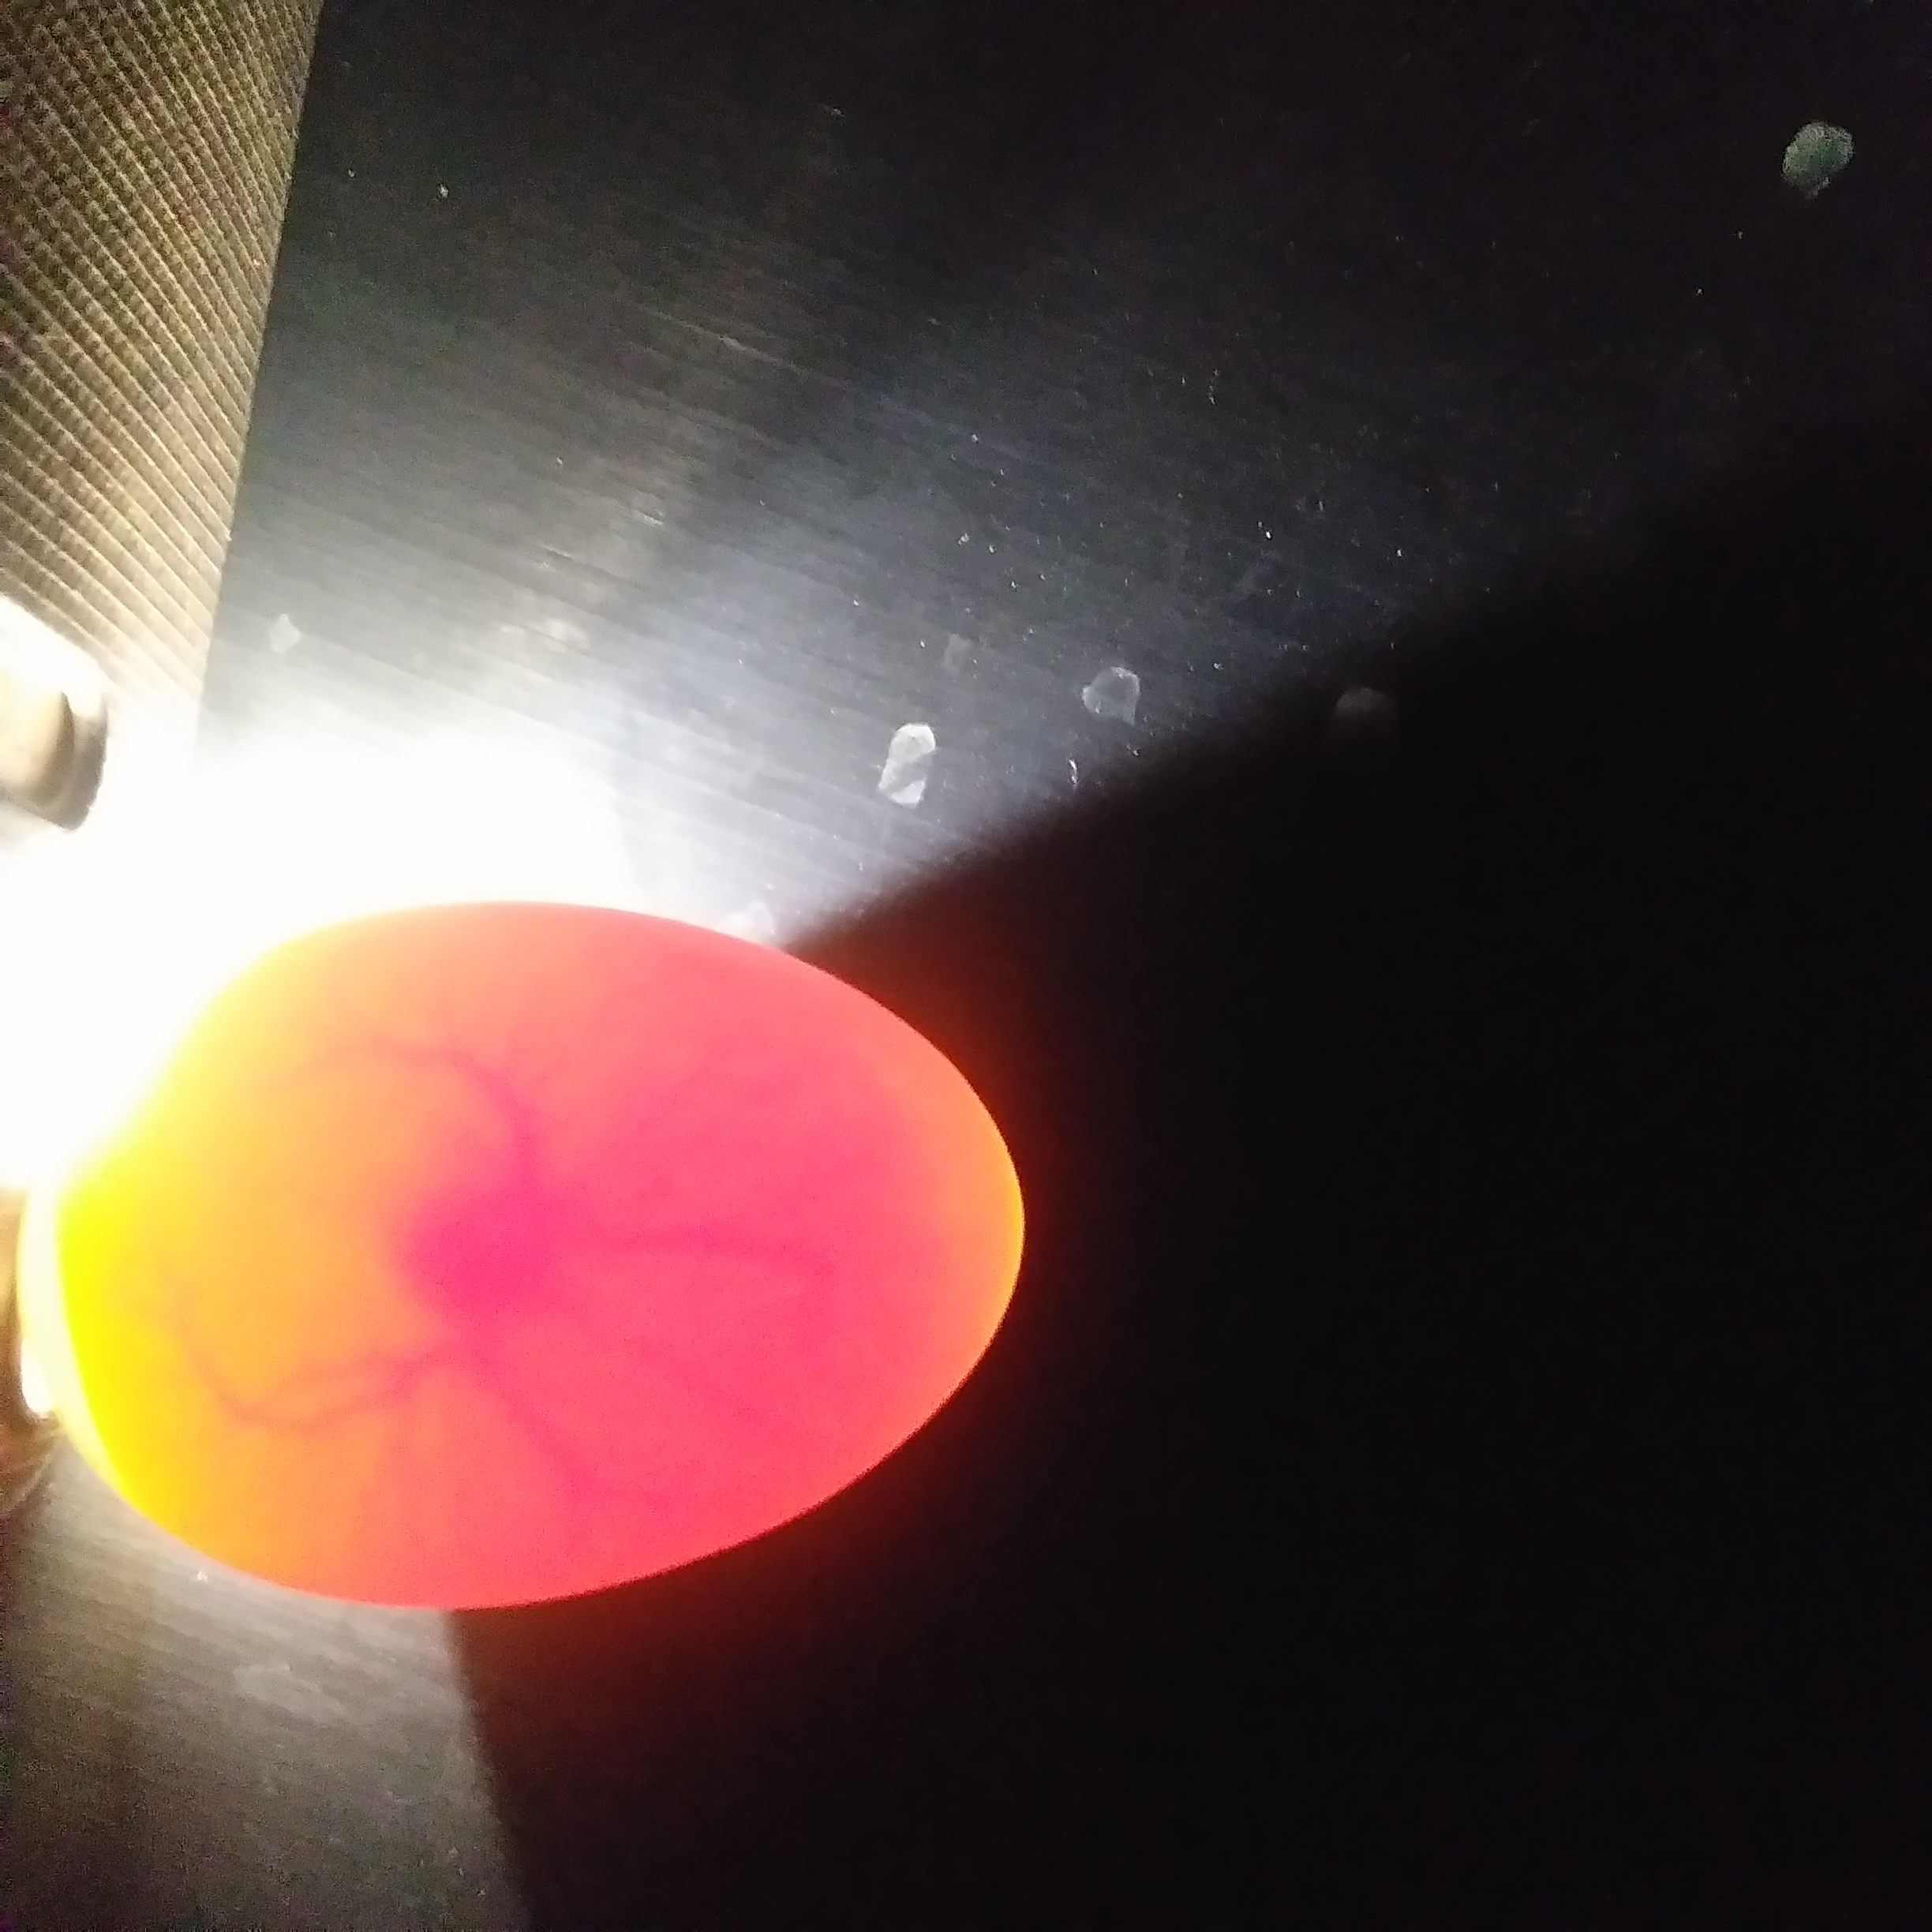bloodcell: (241, 1408, 649, 1571), (308, 1016, 623, 1146)
embryo: (380, 1154, 579, 1329)
